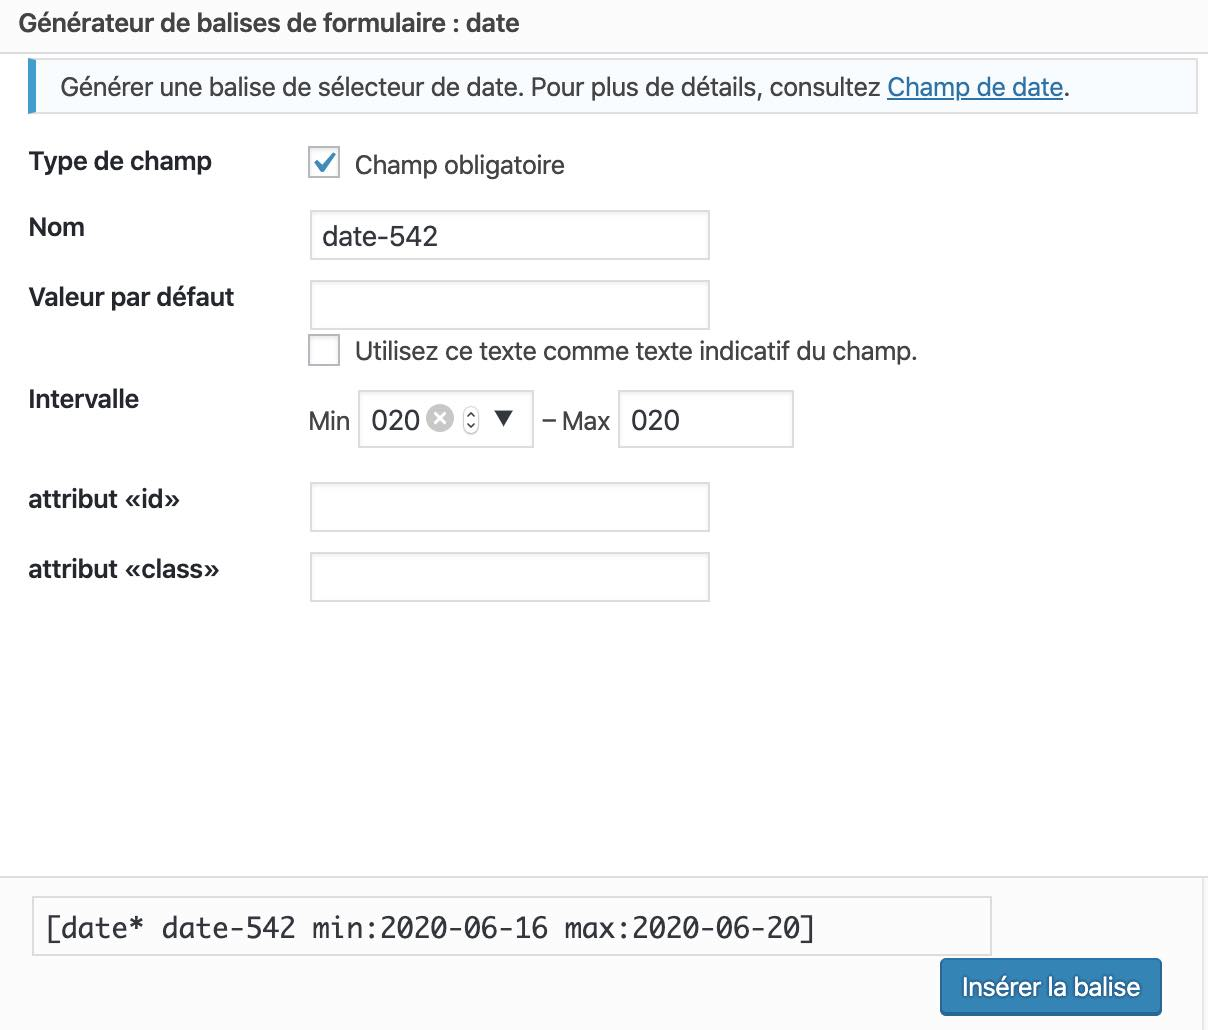_form_: (12, 132, 724, 610), (287, 120, 935, 619), (22, 832, 1013, 1023), (852, 849, 1183, 1030)
button: (937, 956, 1165, 1018)
checkbox: (303, 142, 346, 180), (307, 332, 341, 369)
checkbox_with_label: (303, 330, 920, 373), (27, 137, 352, 185), (299, 138, 565, 185)
field: (30, 894, 996, 958), (309, 481, 716, 534), (307, 551, 712, 604), (309, 209, 713, 261), (309, 279, 712, 330), (616, 386, 796, 451), (355, 387, 535, 451)
field_with_label: (25, 478, 718, 539), (25, 548, 716, 606), (27, 208, 715, 265), (25, 277, 714, 332), (564, 384, 803, 455), (307, 383, 540, 454)
